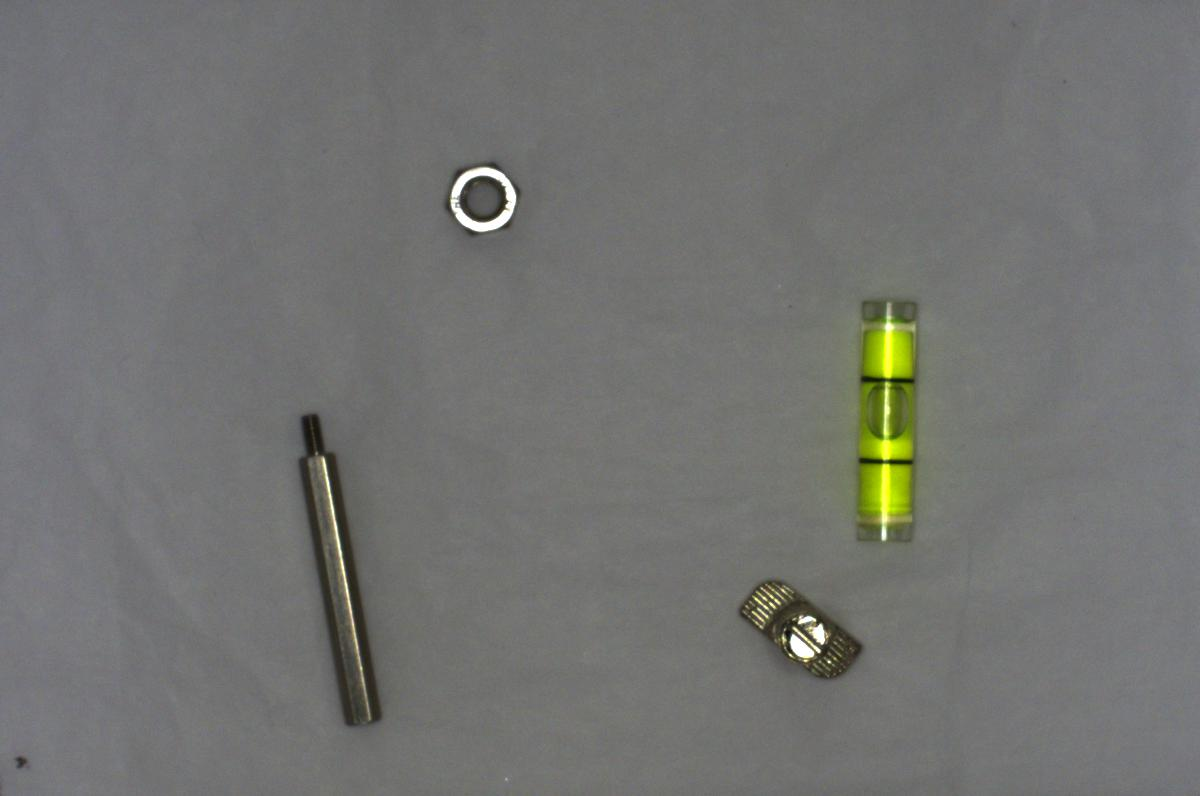Hexagon nut: (439, 160, 527, 239)
Hexagonal steel column: (293, 398, 388, 738)
Horizontal bubble: (845, 293, 932, 549)
T-shaped screw: (733, 575, 873, 687)
